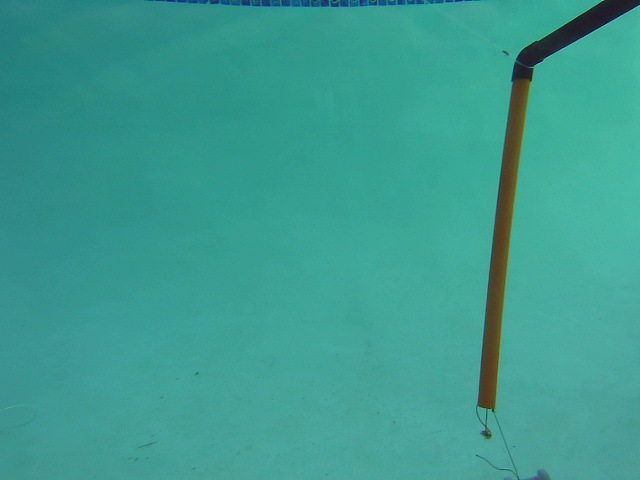Gate: (470, 1, 640, 418)
